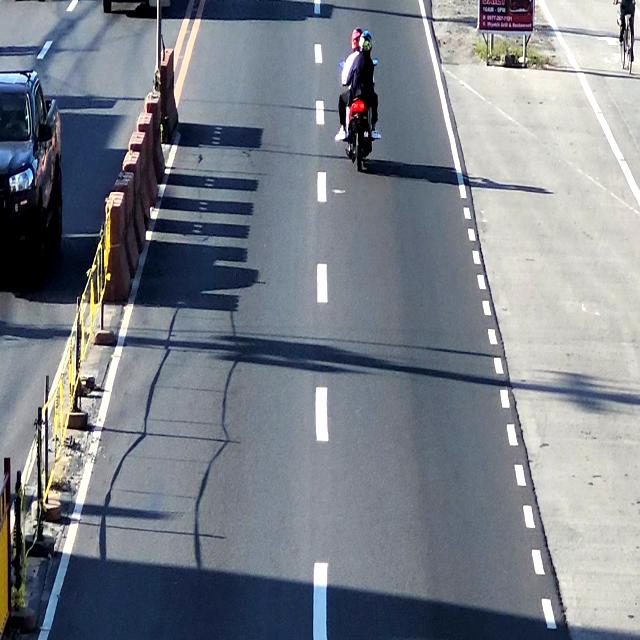Motorcycle: (336, 28, 378, 174)
